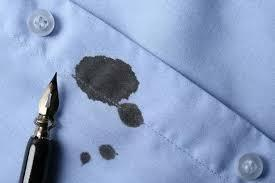ink: (75, 56, 137, 106), (120, 109, 145, 126), (100, 145, 115, 159), (80, 152, 90, 164)
